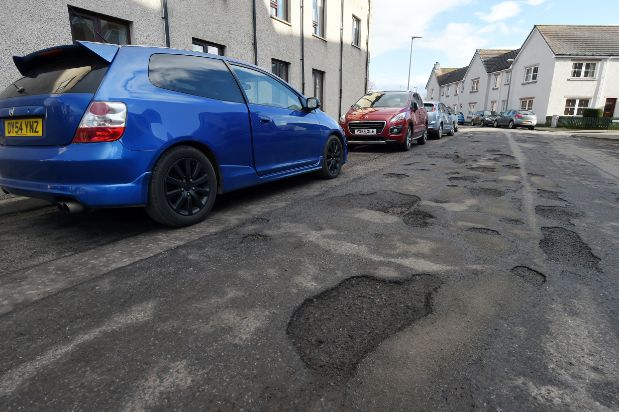pothole: (287, 263, 445, 388), (331, 186, 435, 232), (535, 222, 607, 275), (506, 262, 547, 289)
